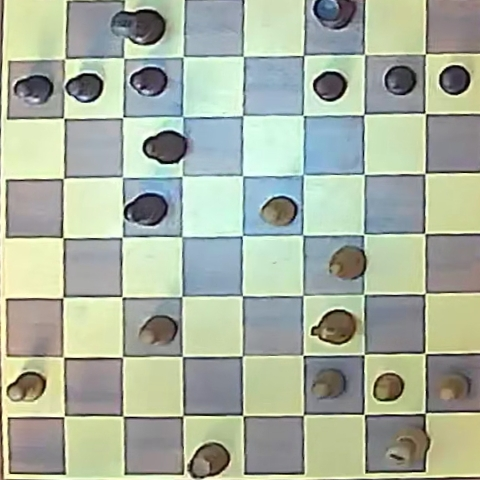black-bishop: (142, 130, 186, 164), (124, 193, 168, 226)
black-king: (112, 8, 165, 46)
black-pawn: (13, 74, 53, 105), (66, 72, 104, 103), (129, 66, 167, 96), (384, 65, 417, 95), (313, 71, 346, 101), (438, 65, 471, 95)
black-rook: (312, 0, 356, 29)
white-bishop: (329, 246, 367, 281)
white-king: (385, 427, 429, 468)
white-knight: (311, 310, 355, 346)
white-pawn: (6, 372, 46, 403), (138, 315, 176, 346), (260, 196, 297, 226), (311, 369, 344, 400), (373, 373, 404, 401), (437, 374, 468, 401)
white-rook: (188, 442, 230, 479)
